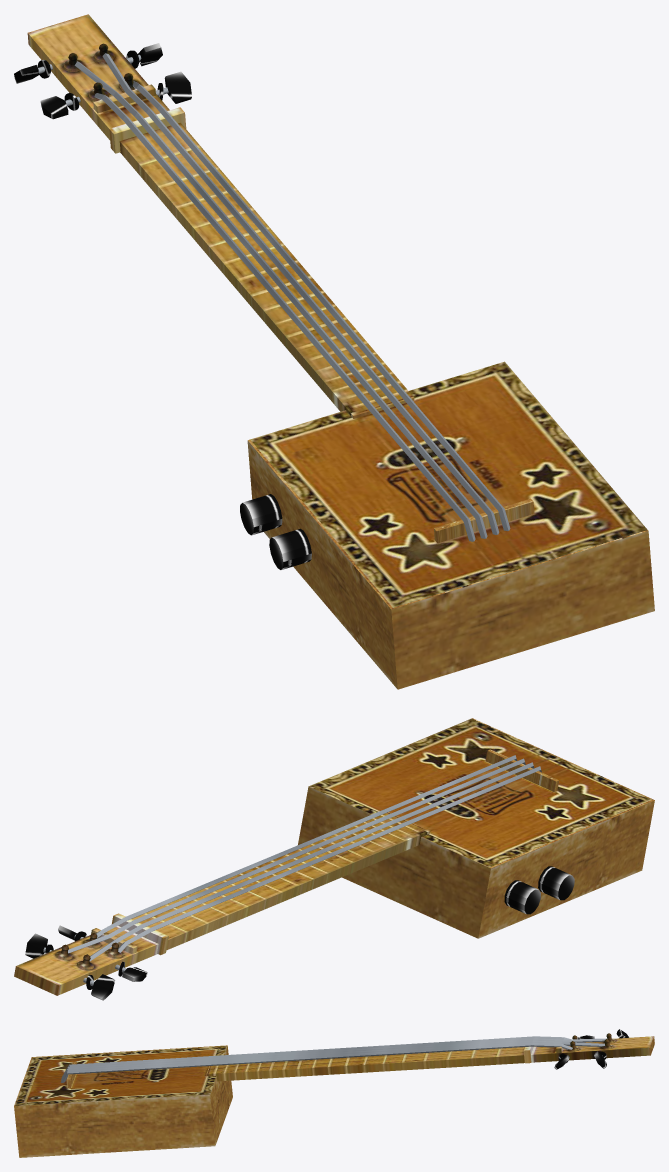
Rendered from cigar_box_guitar.obj.
3 views of the same model, one above another, from view 1: azimuth 30°, elevation 25°; view 2: azimuth 150°, elevation 25°; view 3: azimuth 270°, elevation 25° (orthographic). The views are drawn at different scales.
Visible parts, largest first — view 1: Cylinder.003_Cylinder.004; view 2: Cylinder.003_Cylinder.004; view 3: Cylinder.003_Cylinder.004.
Boxes of the visible parts, x1,y1,x2,y2 form: Cylinder.003_Cylinder.004: (14,14,654,689); Cylinder.003_Cylinder.004: (14,718,654,1000); Cylinder.003_Cylinder.004: (14,1029,654,1157).
Size of the model in its own units: 1.08 by 0.8085 by 3.68.
Materials: 1 (1 with a texture image).
